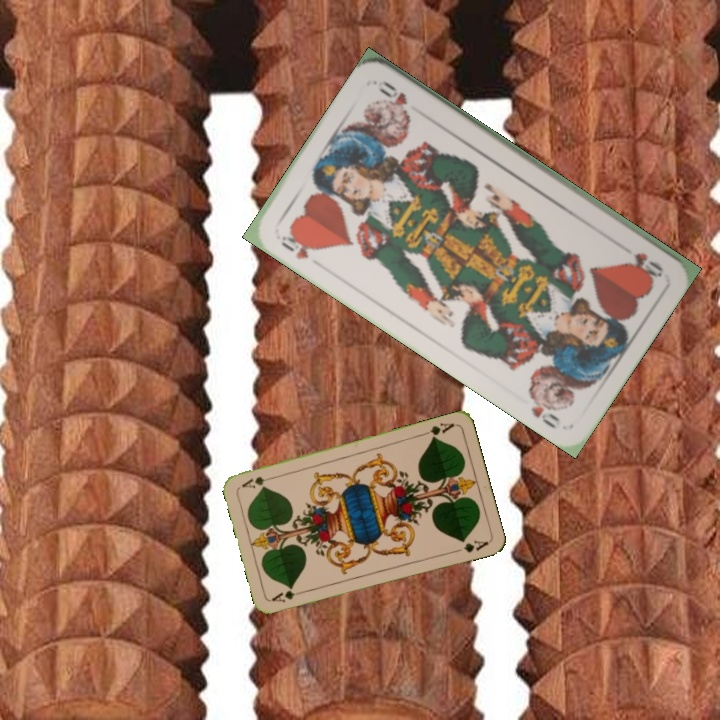GA: (418, 419, 457, 442), (268, 585, 308, 605)
HO: (276, 227, 321, 262), (630, 248, 666, 280)
